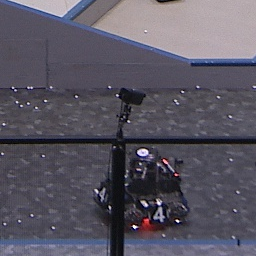Dead: (147, 204, 173, 223), (96, 183, 109, 205)
Robot: (89, 145, 191, 232)
